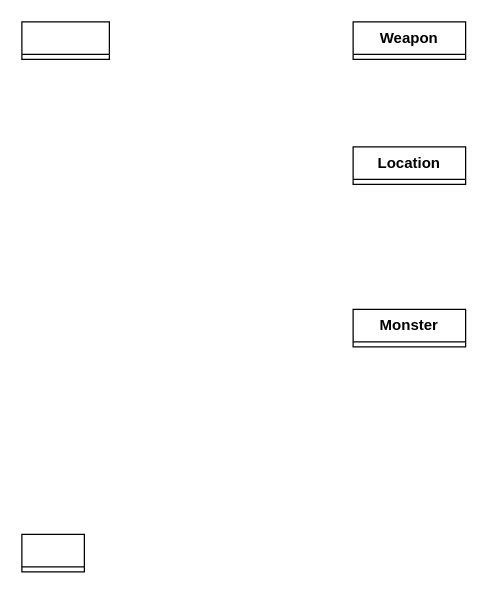
Image size: 488x594. Some labels were removed from this diagram. Each missing label, with the centre of its shape:
"Game" goes at (65,40).
"UI" goes at (52,552).
